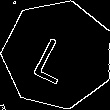L_NE: (32, 25, 83, 84)
